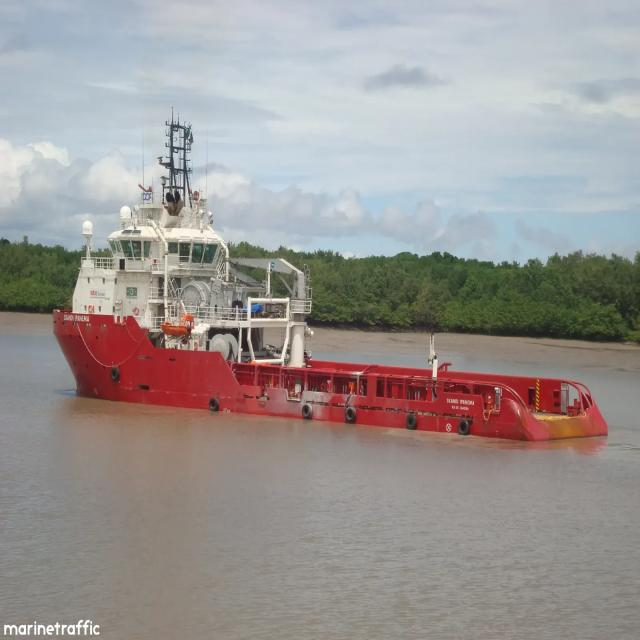Offshore: (53, 121, 607, 441)
